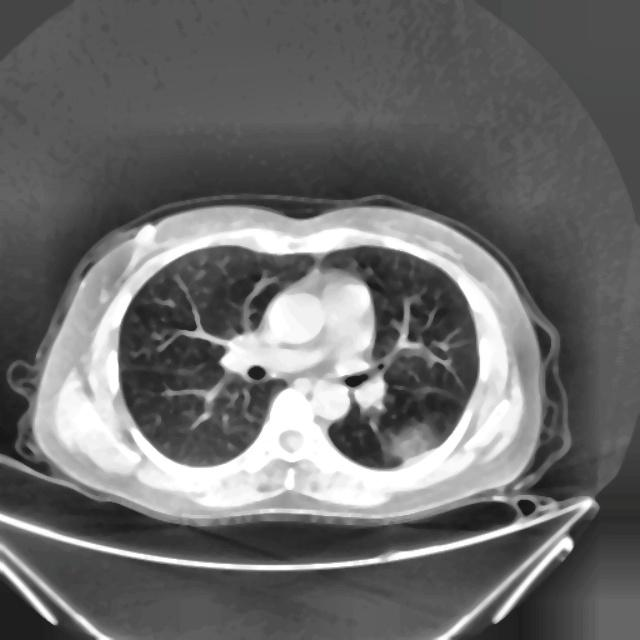covid: (10, 193, 570, 529)
